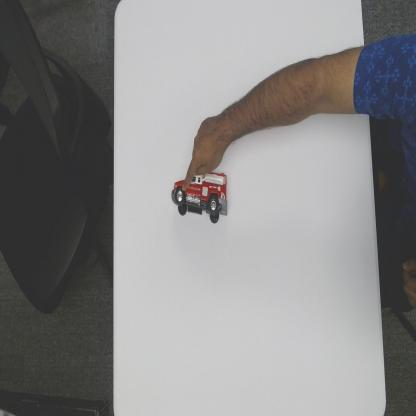Arm: (231, 27, 362, 158)
Firetruck: (170, 171, 229, 224)
Hand: (182, 112, 230, 192)
